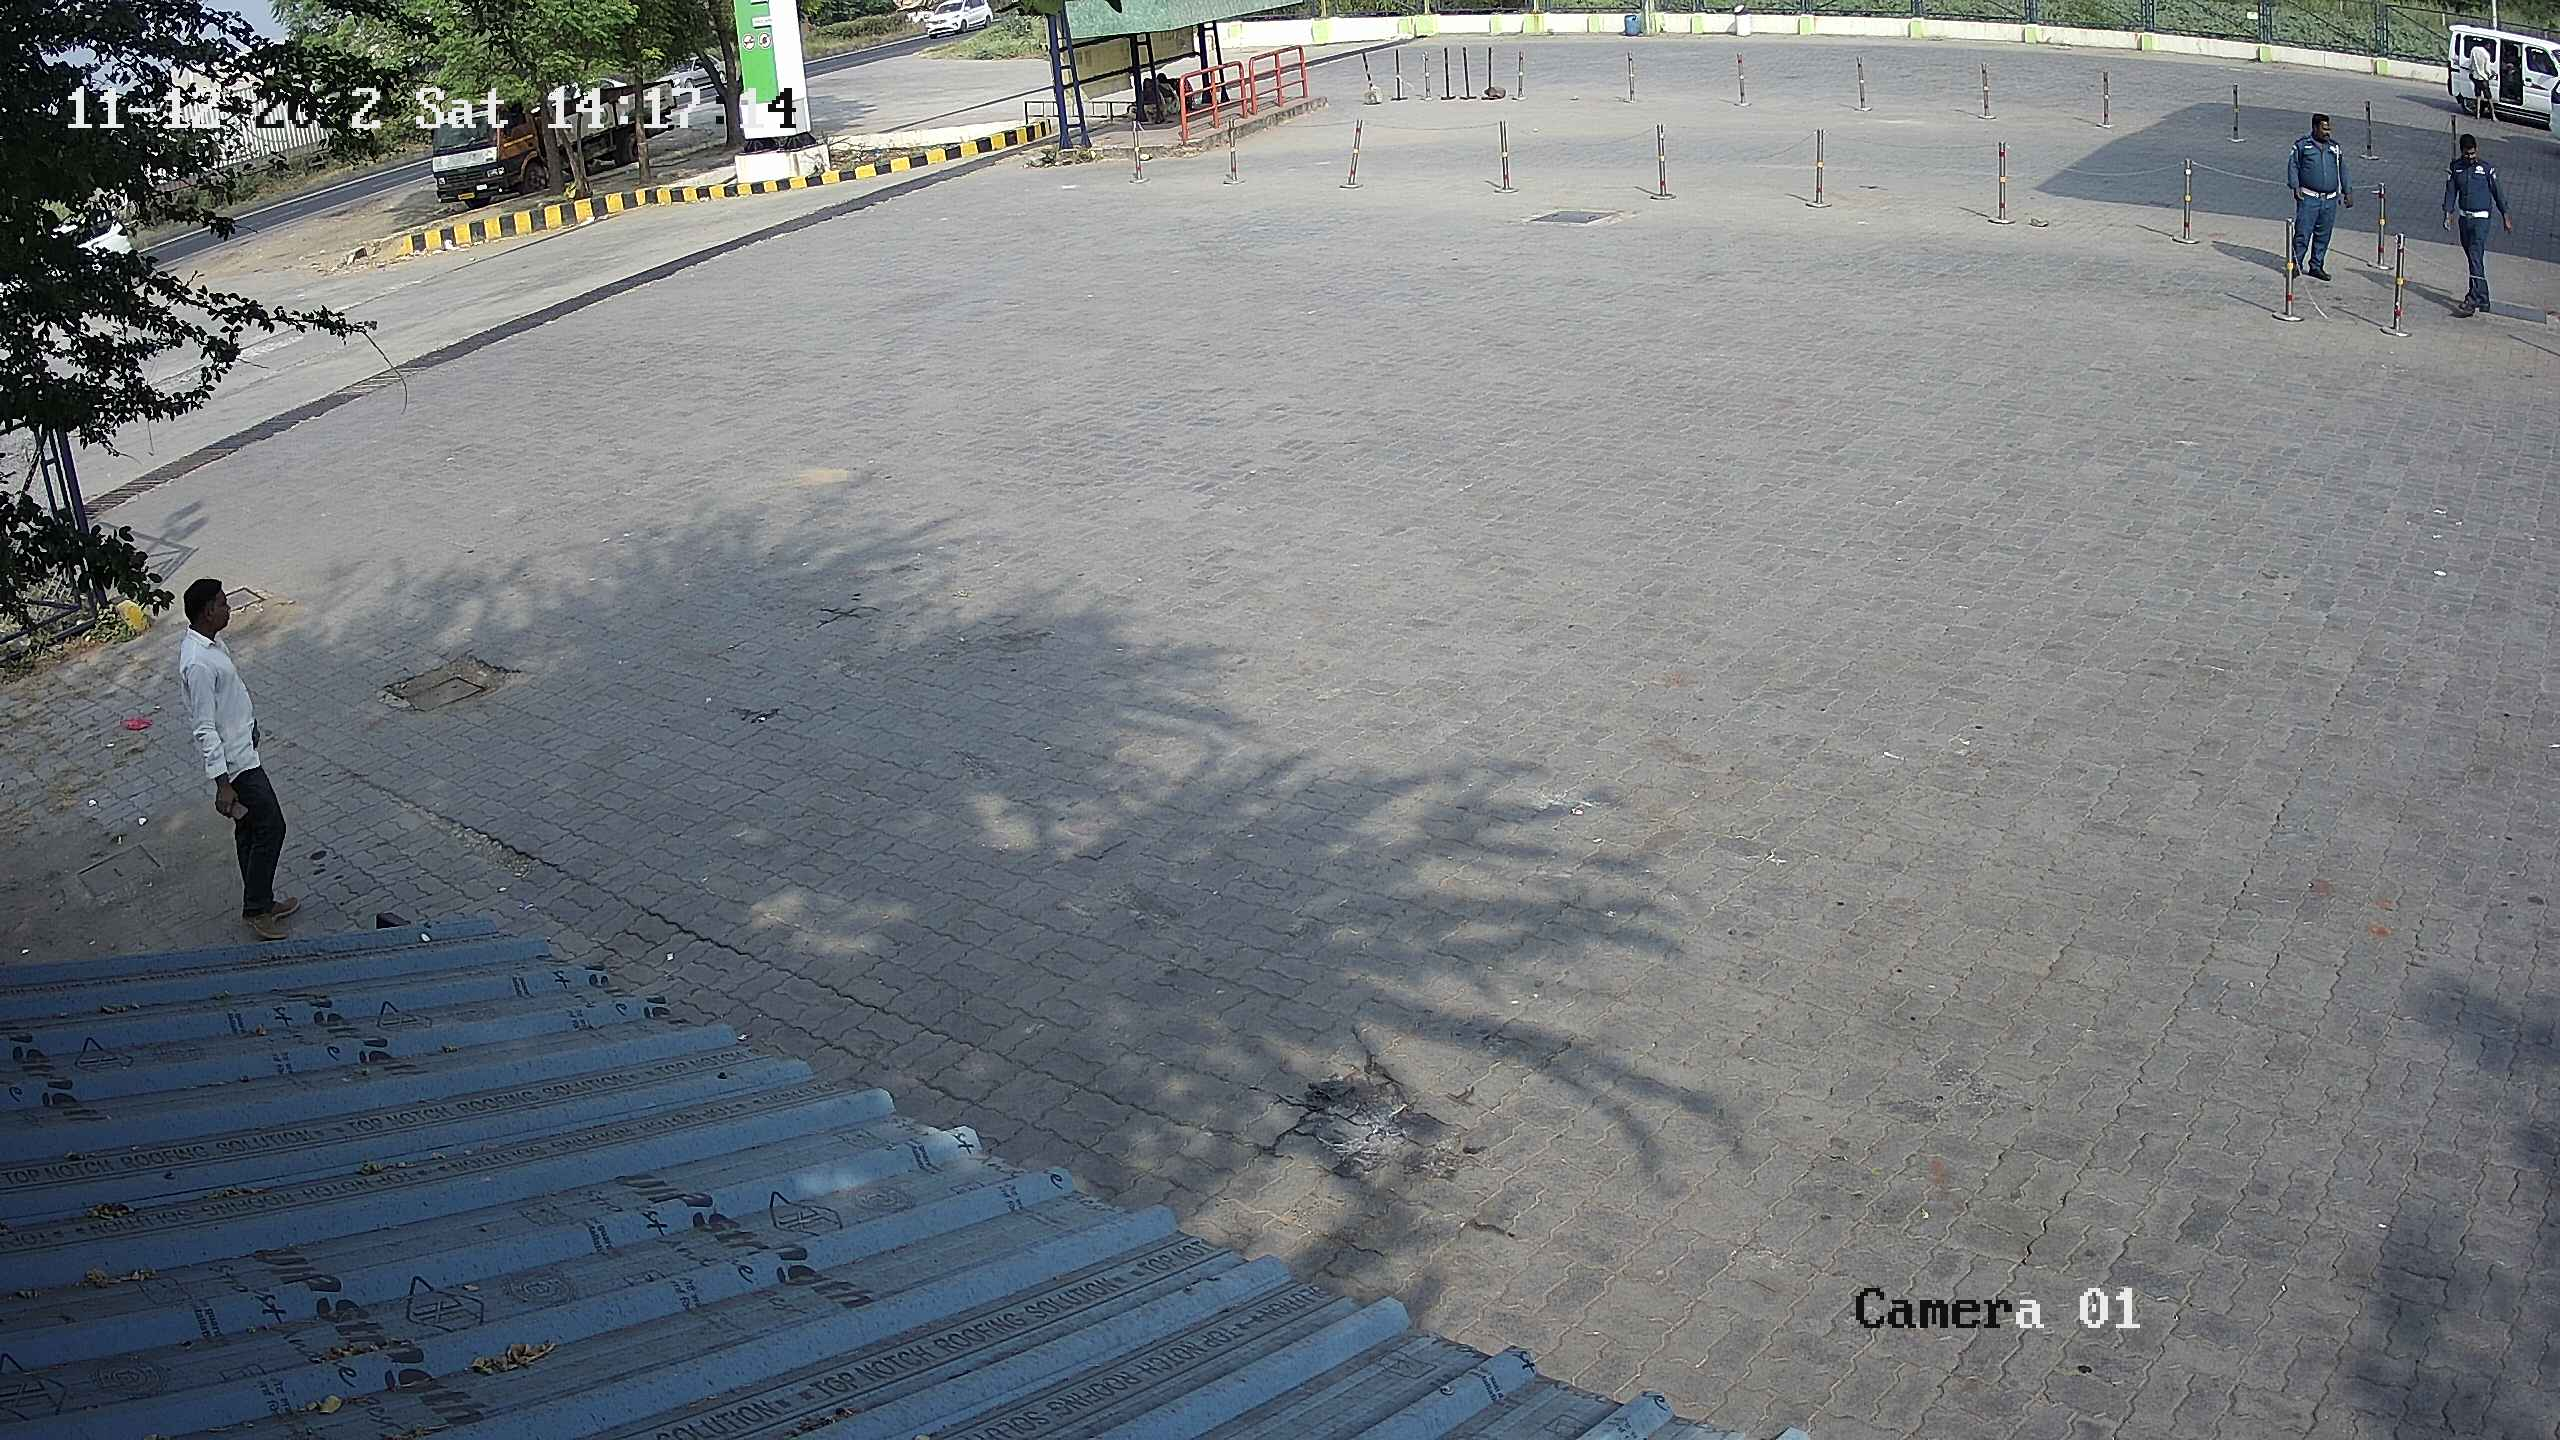Car: (2426, 12, 2558, 134), (913, 0, 1002, 51)
HMV: (406, 44, 571, 223)
